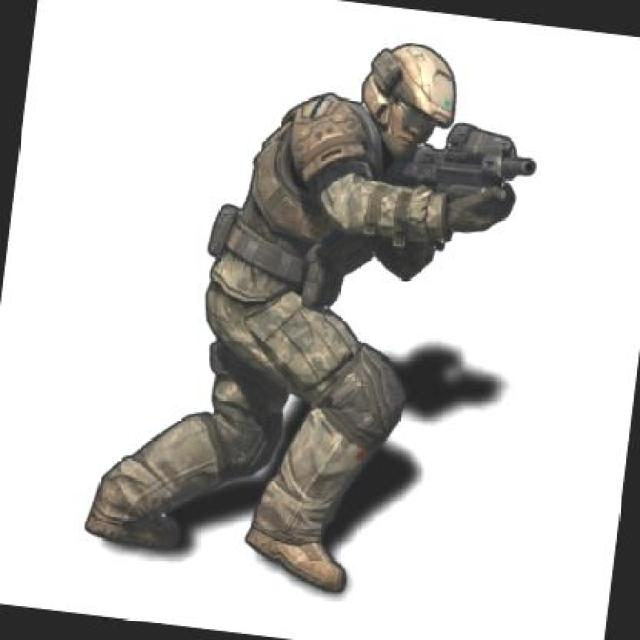MIL_Pax: (78, 8, 465, 598)
